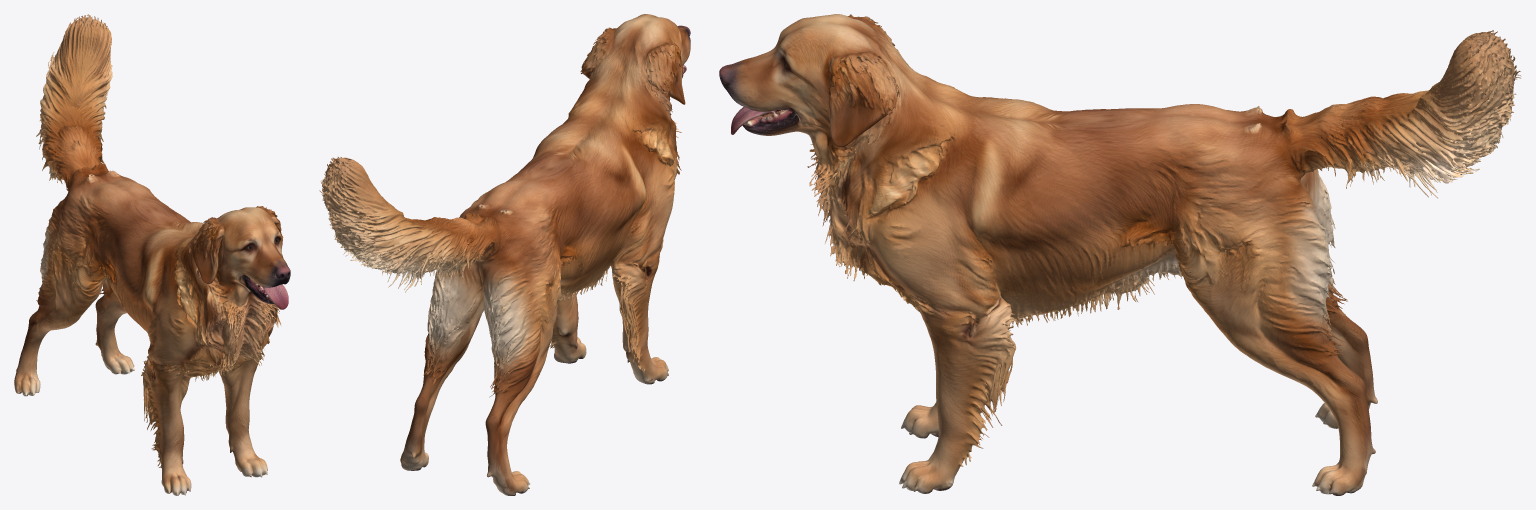
Rendered from Golden Retriever Dog.glb.
The picture shows the model from 3 angles, left to right: view 1: azimuth 30°, elevation 25°; view 2: azimuth 150°, elevation 25°; view 3: azimuth 270°, elevation 25°; orthographic projection. The views are drawn at different scales.
Bounding box in the file's own units: 0.5748 × 1.23 × 1.9.
1 material, 1 textured.
